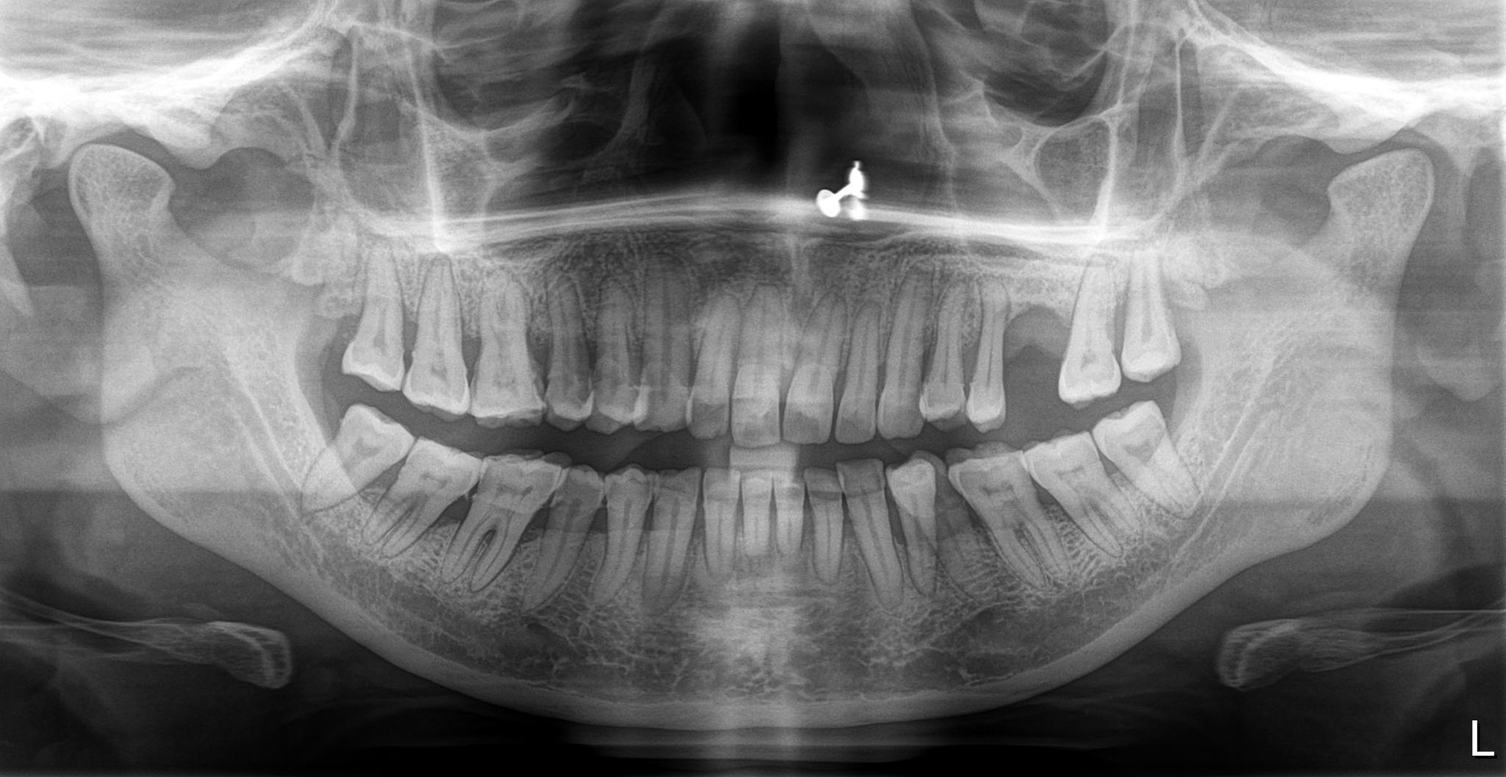Missing Tooth: (1004, 292, 1063, 407), (305, 244, 349, 373), (283, 395, 329, 495)
